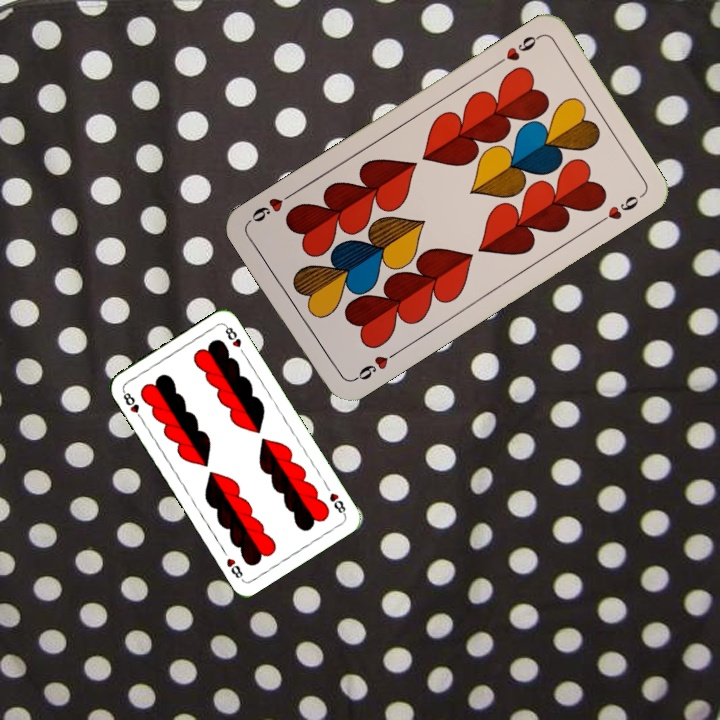H8: (118, 386, 146, 423), (325, 489, 348, 518)
H9: (348, 347, 401, 385), (491, 31, 543, 69)
